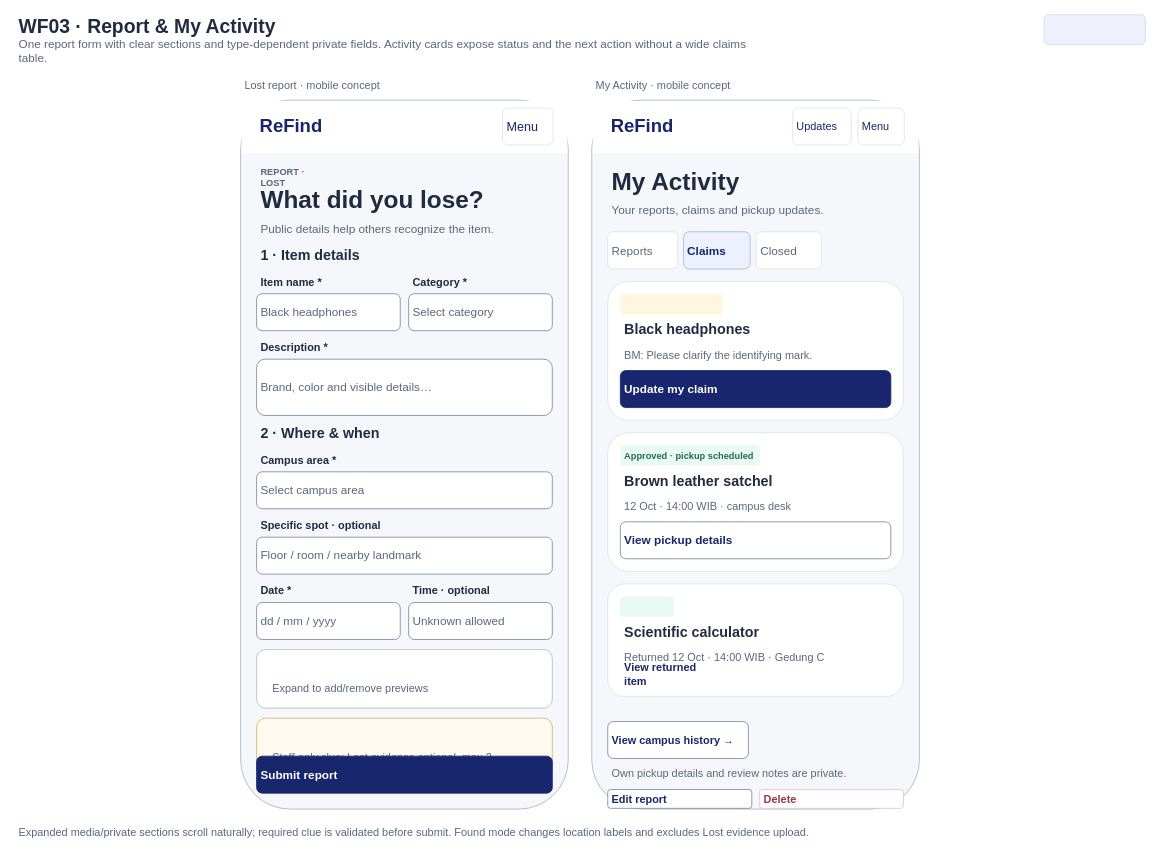
The diagram is 1160 pixels wide and 854 high, and some of its shapes have lost their labels. Each missing label, with the centre of its shape:
CONCEPT / UX01: point 1094,29
More info requested: point 671,304
Returned: point 646,606
